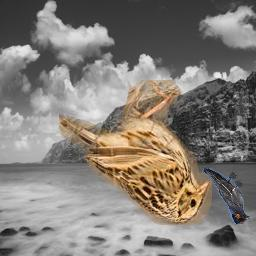Sparrow: (60, 81, 213, 226)
Swallow: (202, 168, 250, 224)
